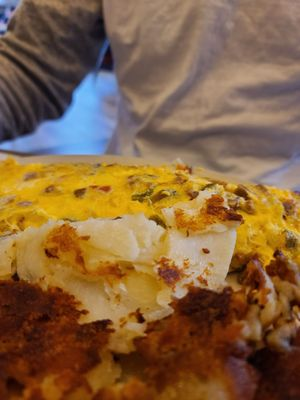sandwich: (0, 157, 300, 399)
